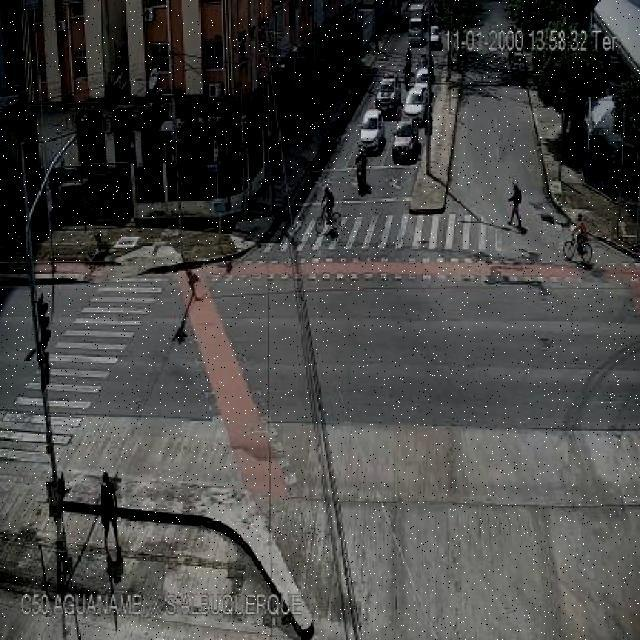Car: (388, 117, 422, 164), (359, 109, 386, 152), (375, 77, 401, 114), (402, 85, 429, 120), (508, 51, 528, 80), (413, 64, 431, 89), (407, 25, 425, 47), (412, 80, 429, 102), (406, 2, 425, 21), (428, 25, 442, 49), (409, 14, 424, 28)
Cycle: (556, 212, 608, 271), (304, 188, 342, 238), (353, 150, 374, 196), (398, 44, 416, 80)
